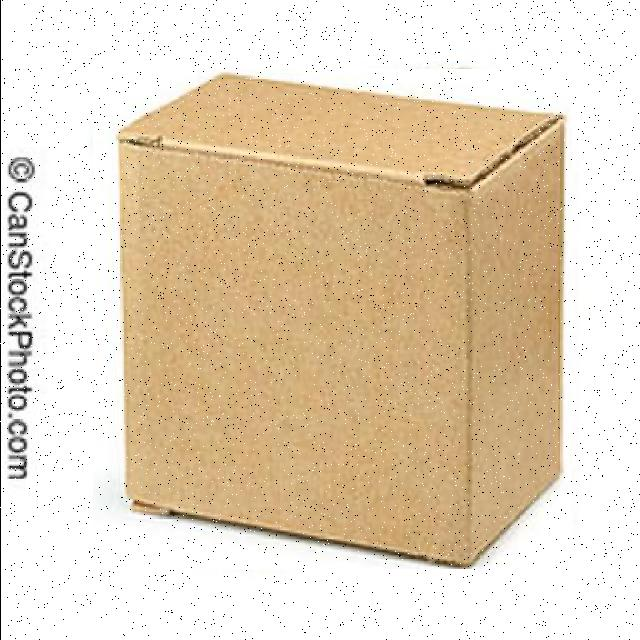normal: (92, 69, 571, 569)
